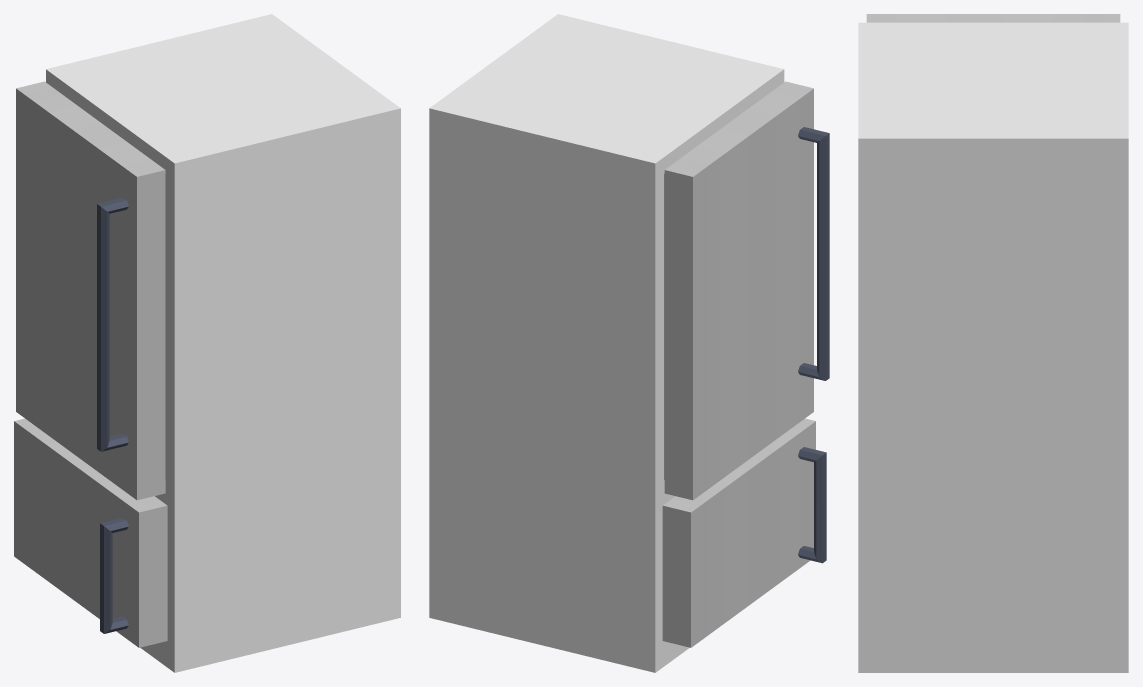
Rendered from holodos.fbx.
The picture shows the model from 3 angles, left to right: view 1: azimuth 30°, elevation 25°; view 2: azimuth 150°, elevation 25°; view 3: azimuth 270°, elevation 25°; orthographic projection. The views are drawn at different scales.
Parts seen in each view (by area): view 1: Cube.007; view 2: Cube.007; view 3: Cube.007.
Part boxes in pixels (box(x1,y1,x2,y2)): Cube.007: box(14, 14, 400, 672); Cube.007: box(429, 14, 829, 672); Cube.007: box(858, 14, 1128, 672).
Size of the model in its own units: 203 by 346 by 159.
